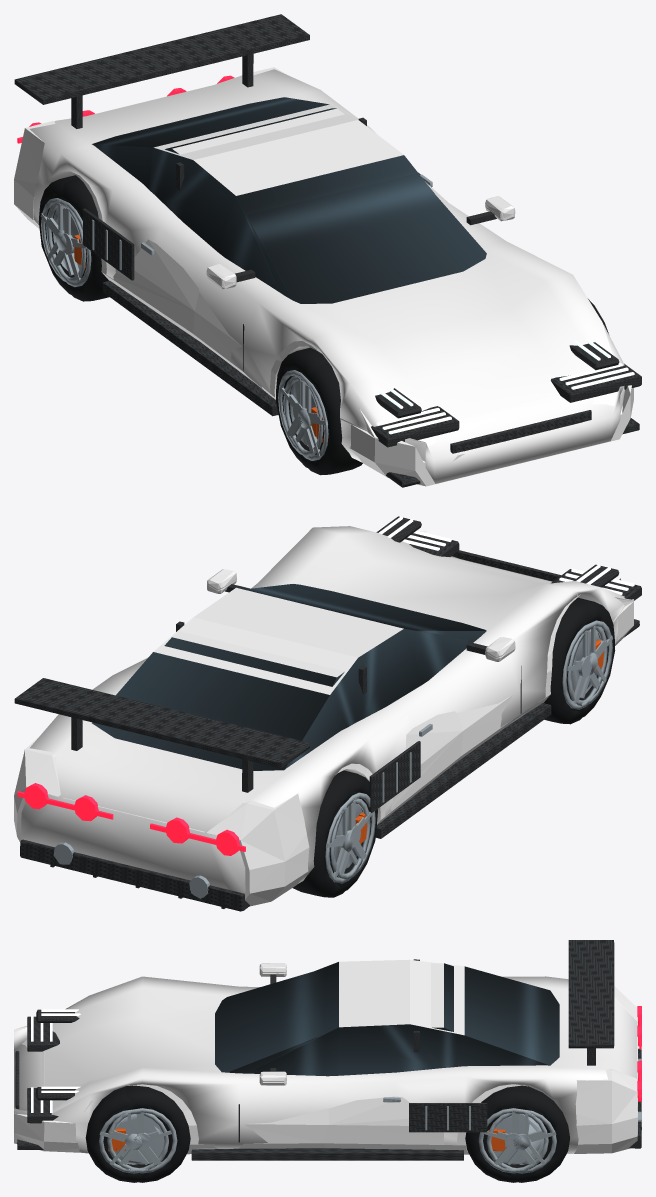
The model's file is sports-cars.glb.
3 renders of one model, top to bottom at view 1: azimuth 30°, elevation 25°; view 2: azimuth 150°, elevation 25°; view 3: azimuth 270°, elevation 25°, orthographic. The views are drawn at different scales.
Parts seen in each view (by area): view 1: SportsCoupe, SportsWedge; view 2: SportsCoupe, SportsWedge; view 3: SportsCoupe, SportsWedge.
Boxes of the visible parts, x1,y1,x2,y2 form: SportsCoupe: [29, 69, 639, 485]; SportsWedge: [14, 14, 641, 487]; SportsCoupe: [20, 516, 639, 910]; SportsWedge: [14, 530, 641, 911]; SportsCoupe: [14, 959, 641, 1182]; SportsWedge: [14, 940, 641, 1182].
Bounding box in the file's own units: 2 × 1.12 × 4.6.
Materials: 8 (2 with a texture image).
